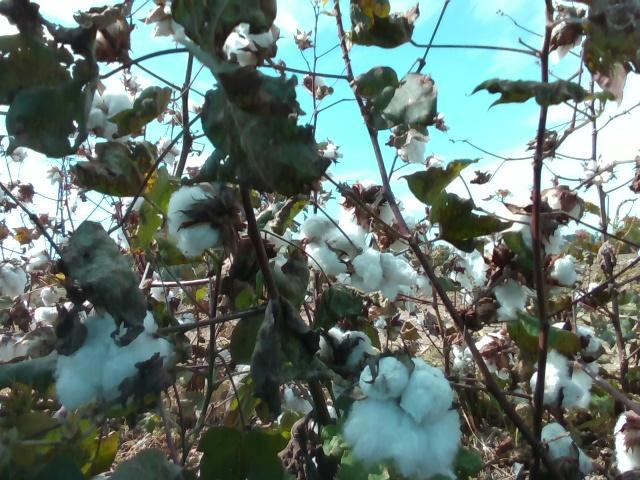cotton_ready: (346, 356, 465, 480), (54, 307, 176, 406), (168, 187, 227, 257), (530, 350, 595, 410), (351, 248, 420, 302), (301, 216, 366, 272), (221, 20, 281, 72), (538, 423, 594, 477), (382, 71, 438, 120), (84, 94, 137, 144), (320, 326, 380, 366), (511, 212, 563, 254), (357, 186, 398, 232), (494, 276, 535, 320), (615, 411, 640, 478), (546, 21, 584, 60), (546, 183, 583, 221), (150, 5, 190, 39), (396, 126, 427, 164), (549, 252, 577, 287)
